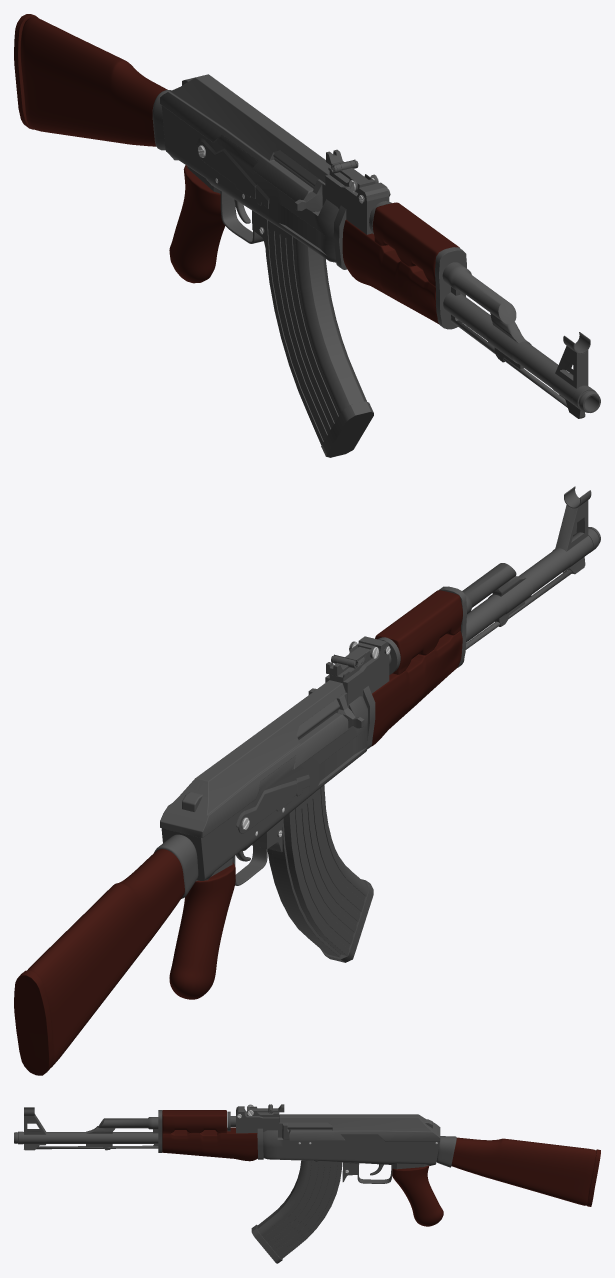
The model's file is Ak-47_OPENGAMEART.obj.
3 renders of one model, top to bottom at view 1: azimuth 30°, elevation 25°; view 2: azimuth 150°, elevation 25°; view 3: azimuth 270°, elevation 25°, orthographic. The views are drawn at different scales.
Visible parts, largest first — view 1: Cube_Cube.001, Cube.014_Cube.018, Cube.004_Cube.006, Cube.002_Cube.003, Cube.006_Cube.008, Cube.003_Cube.004, Cube.007_Cube.009, Cylinder.002, Cylinder.003, Cube.009_Cube.012, Cube.016_Cube.020, Cylinder.004 (+7 smaller); view 2: Cube_Cube.001, Cube.014_Cube.018, Cube.004_Cube.006, Cube.002_Cube.003, Cube.003_Cube.004, Cube.006_Cube.008, Cube.007_Cube.009, Cube.001_Cube.002, Cylinder.002, Cylinder.003, Cylinder.004, Cube.009_Cube.012 (+2 smaller); view 3: Cube_Cube.001, Cube.002_Cube.003, Cube.014_Cube.018, Cube.004_Cube.006, Cube.006_Cube.008, Cube.003_Cube.004, Cube.007_Cube.009, Cylinder.003, Cylinder.002, Cube.009_Cube.012, Cylinder.004, Cube.005_Cube.007 (+5 smaller).
Part boxes in pixels (x1=…): Cube_Cube.001: x1=20, y1=17, x2=167, y2=146; Cube.014_Cube.018: x1=264, y1=218, x2=366, y2=444; Cube.004_Cube.006: x1=160, y1=74, x2=331, y2=201; Cube.002_Cube.003: x1=161, y1=105, x2=346, y2=269; Cube.006_Cube.008: x1=342, y1=219, x2=439, y2=324; Cube.003_Cube.004: x1=169, y1=165, x2=224, y2=283; Cube.007_Cube.009: x1=372, y1=202, x2=459, y2=286; Cylinder.002: x1=443, y1=292, x2=600, y2=412; Cylinder.003: x1=442, y1=262, x2=531, y2=369; Cube.009_Cube.012: x1=325, y1=174, x2=389, y2=234; Cube.016_Cube.020: x1=321, y1=401, x2=373, y2=457; Cylinder.004: x1=550, y1=346, x2=588, y2=418; Cube_Cube.001: x1=27, y1=849, x2=184, y2=1067; Cube.014_Cube.018: x1=267, y1=785, x2=368, y2=957; Cube.004_Cube.006: x1=160, y1=680, x2=348, y2=837; Cube.002_Cube.003: x1=161, y1=686, x2=375, y2=881; Cube.003_Cube.004: x1=169, y1=862, x2=235, y2=999; Cube.006_Cube.008: x1=371, y1=631, x2=462, y2=746; Cube.007_Cube.009: x1=375, y1=590, x2=462, y2=674; Cube.001_Cube.002: x1=14, y1=970, x2=53, y2=1075; Cylinder.002: x1=466, y1=527, x2=600, y2=642; Cylinder.003: x1=462, y1=563, x2=532, y2=626; Cylinder.004: x1=553, y1=500, x2=592, y2=574; Cube.009_Cube.012: x1=325, y1=636, x2=389, y2=707; Cube_Cube.001: x1=451, y1=1137, x2=596, y2=1205; Cube.002_Cube.003: x1=257, y1=1128, x2=439, y2=1169; Cube.014_Cube.018: x1=257, y1=1160, x2=342, y2=1259; Cube.004_Cube.006: x1=279, y1=1114, x2=440, y2=1141; Cube.006_Cube.008: x1=162, y1=1127, x2=257, y2=1161; Cube.003_Cube.004: x1=392, y1=1165, x2=443, y2=1226; Cube.007_Cube.009: x1=162, y1=1110, x2=226, y2=1133; Cylinder.003: x1=86, y1=1117, x2=158, y2=1150; Cylinder.002: x1=14, y1=1131, x2=158, y2=1144; Cube.009_Cube.012: x1=236, y1=1106, x2=279, y2=1133; Cylinder.004: x1=24, y1=1114, x2=46, y2=1150; Cube.005_Cube.007: x1=436, y1=1136, x2=456, y2=1167.
Bounding box in the file's own units: 0.4993 × 2.61 × 8.89.
